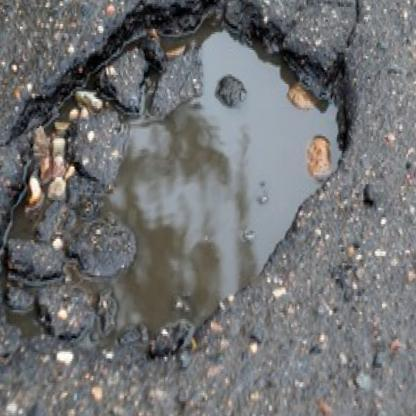pothole: (0, 0, 362, 371)
